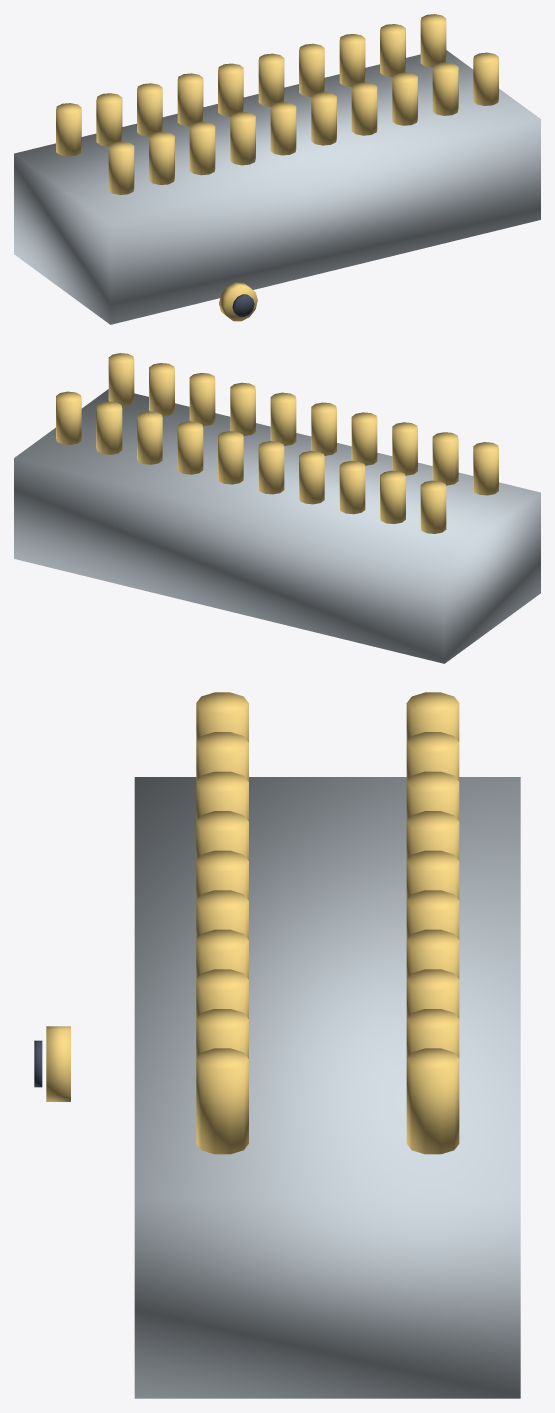
Rendered from 41_L86_CaptiveFastenerAndBoltRack.glb.
The picture shows the model from 3 angles, top to bottom: view 1: azimuth 30°, elevation 25°; view 2: azimuth 150°, elevation 25°; view 3: azimuth 270°, elevation 25°; orthographic projection. The views are drawn at different scales.
Visible parts, largest first — view 1: L86_CaptiveFastenerAndBoltRac_Part_0000, L86_CaptiveFastenerAndBoltRac_Part_0001, L86_CaptiveFastenerAndBoltRac_Part_0002, L86_CaptiveFastenerAndBoltRac_Part_0003, L86_CaptiveFastenerAndBoltRac_Part_0004; view 2: L86_CaptiveFastenerAndBoltRac_Part_0000, L86_CaptiveFastenerAndBoltRac_Part_0001, L86_CaptiveFastenerAndBoltRac_Part_0002; view 3: L86_CaptiveFastenerAndBoltRac_Part_0000, L86_CaptiveFastenerAndBoltRac_Part_0001, L86_CaptiveFastenerAndBoltRac_Part_0002, L86_CaptiveFastenerAndBoltRac_Part_0003.
Part boxes in pixels (x1,y1,x2,y2): L86_CaptiveFastenerAndBoltRac_Part_0000: (14, 50, 540, 324); L86_CaptiveFastenerAndBoltRac_Part_0001: (56, 14, 446, 194); L86_CaptiveFastenerAndBoltRac_Part_0002: (351, 52, 498, 135); L86_CaptiveFastenerAndBoltRac_Part_0003: (219, 282, 257, 321); L86_CaptiveFastenerAndBoltRac_Part_0004: (232, 294, 254, 316); L86_CaptiveFastenerAndBoltRac_Part_0000: (14, 389, 540, 663); L86_CaptiveFastenerAndBoltRac_Part_0001: (56, 391, 498, 533); L86_CaptiveFastenerAndBoltRac_Part_0002: (108, 353, 255, 436); L86_CaptiveFastenerAndBoltRac_Part_0000: (134, 777, 520, 1398); L86_CaptiveFastenerAndBoltRac_Part_0001: (196, 692, 459, 1154); L86_CaptiveFastenerAndBoltRac_Part_0002: (196, 929, 248, 1154); L86_CaptiveFastenerAndBoltRac_Part_0003: (46, 1026, 70, 1101).
Bounding box in the file's own units: 1.7 × 0.6062 × 0.832.
